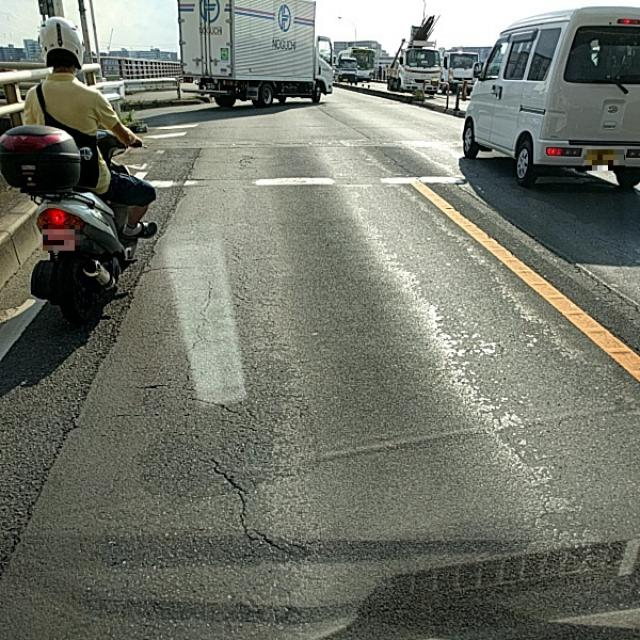pothole: (134, 366, 248, 516)
